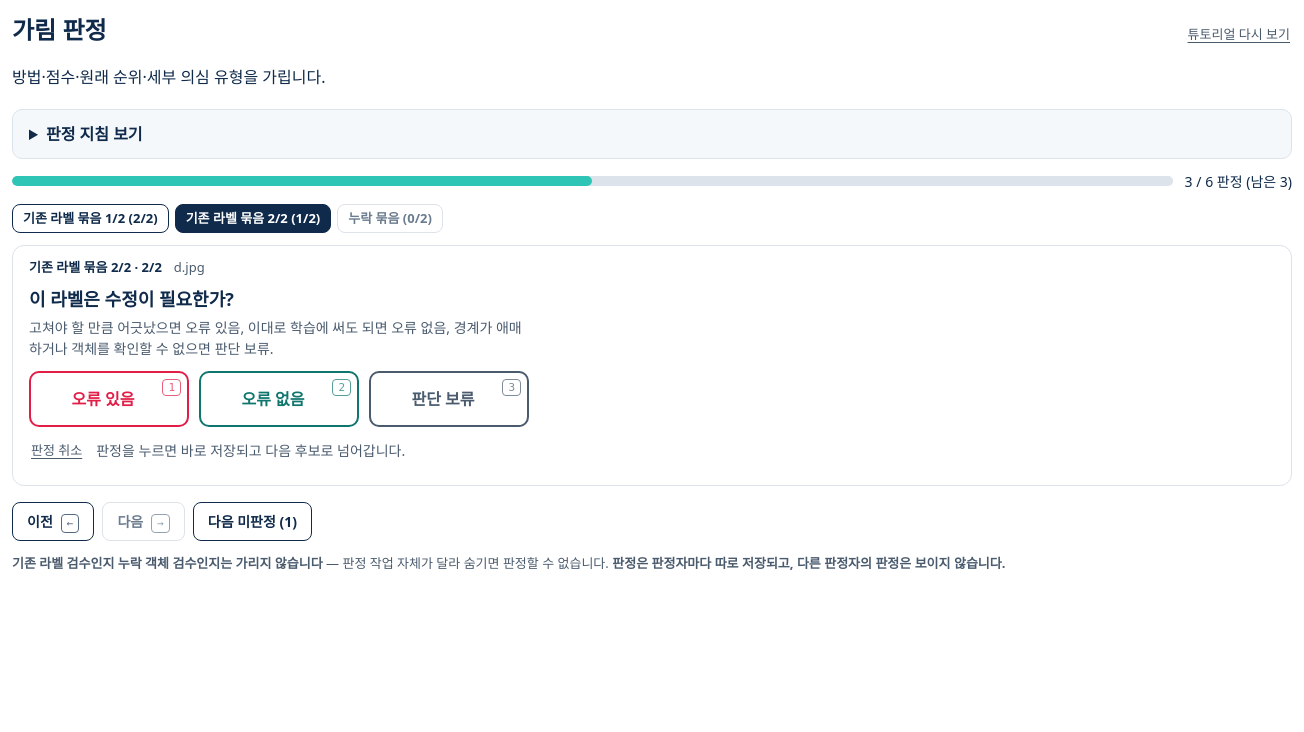
Test: 묶음 경계 › 누락 묶음 앞에서는 질문이 바뀐다고 알린다
Expected: the text "d.jpg" is shown, 174,258 -> 205,278
Click the button "오류 없음" at (279, 398), box 199,370 -> 359,426
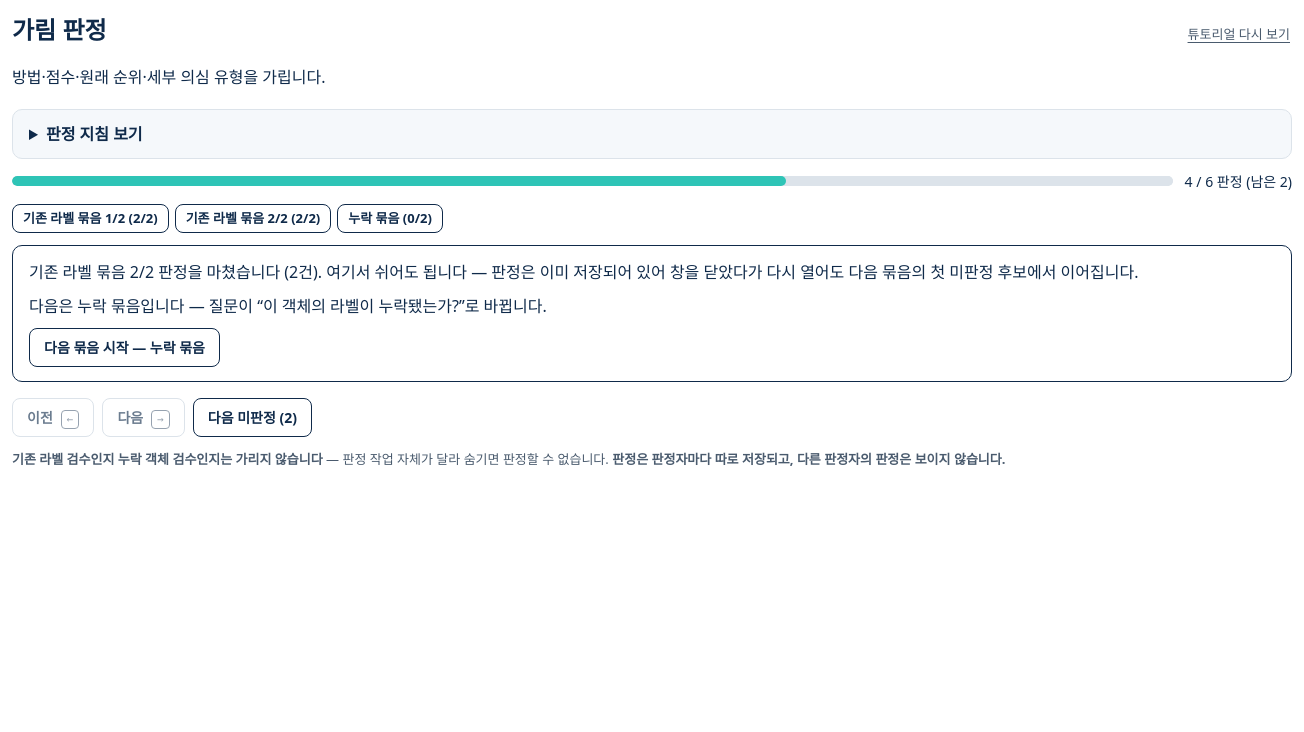
Expected: the text "다음은 누락 묶음입니다 — 질문이 “이 객체의 라벨이 누락됐는가?”로 바뀝니다." is shown, 29,295 -> 547,317
Click the button "다음 묶음 시작 — 누락 묶음" at (124, 348), box 29,328 -> 220,367
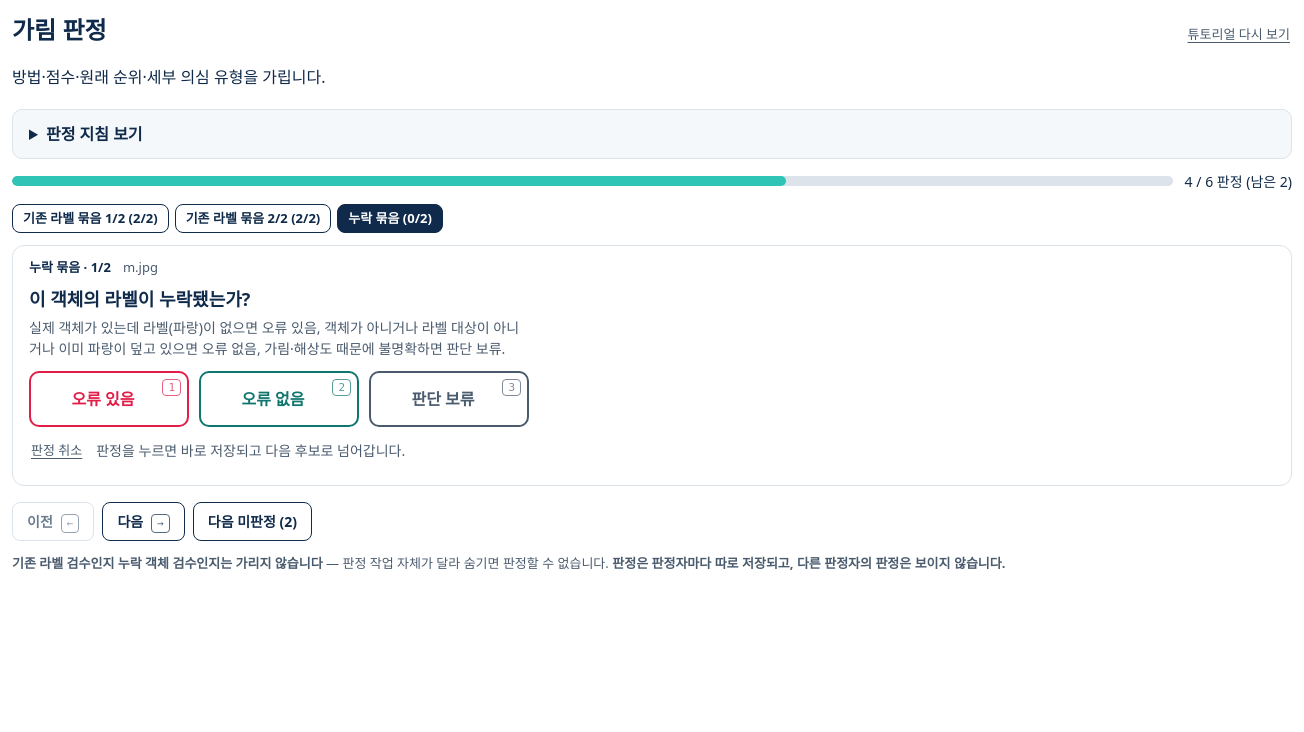
Expected: the text "이 객체의 라벨이 누락됐는가?" is shown, 29,286 -> 250,310
Expected: the text with class "judge-position" reads "누락 묶음 · 1/2", 29,258 -> 111,276
